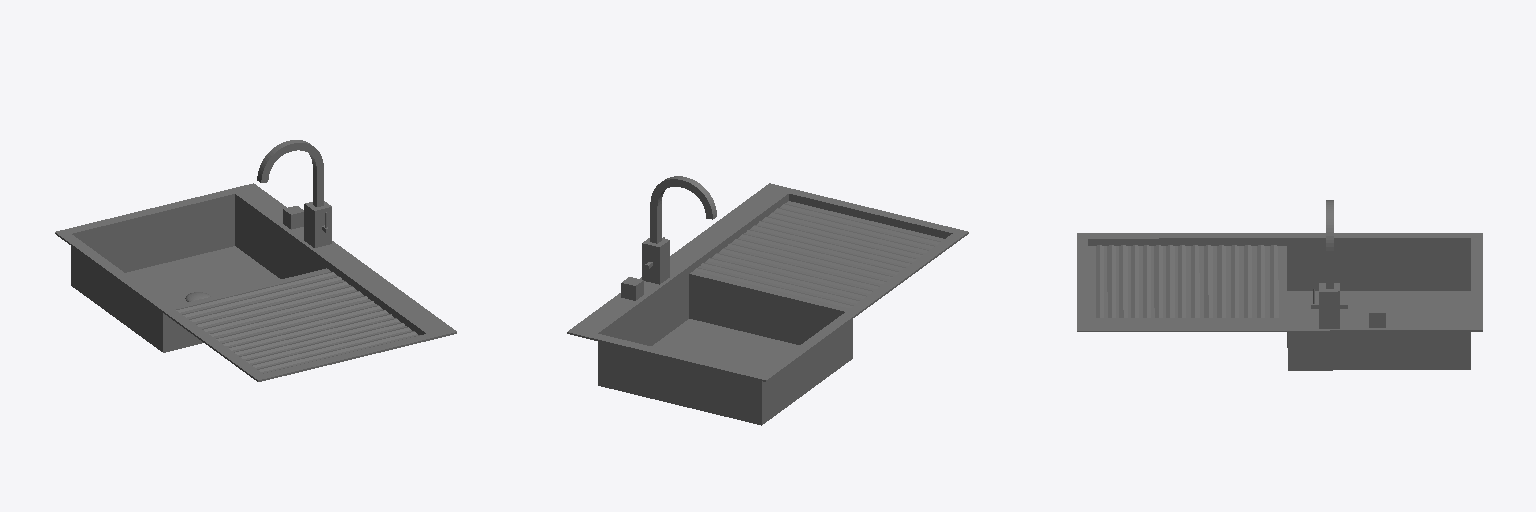
File: Sink.obj
3 renders of one model, left to right at view 1: azimuth 30°, elevation 25°; view 2: azimuth 150°, elevation 25°; view 3: azimuth 270°, elevation 25°, orthographic.
Visible parts, largest first — view 1: Sink, Tube, Tube5; view 2: Sink, Tube, Tube5; view 3: Sink, Tube5, Tube.
Boxes of the visible parts, box(x1,y1,x2,y2) form: Sink: box(55, 183, 456, 381); Tube: box(257, 140, 323, 206); Tube5: box(304, 201, 331, 247); Sink: box(567, 183, 968, 425); Tube: box(650, 176, 716, 243); Tube5: box(642, 238, 669, 284); Sink: box(1077, 233, 1482, 370); Tube5: box(1319, 283, 1339, 328); Tube: box(1326, 200, 1333, 288).
Bounding box in the file's own units: 14.88 × 11.54 × 26.23.